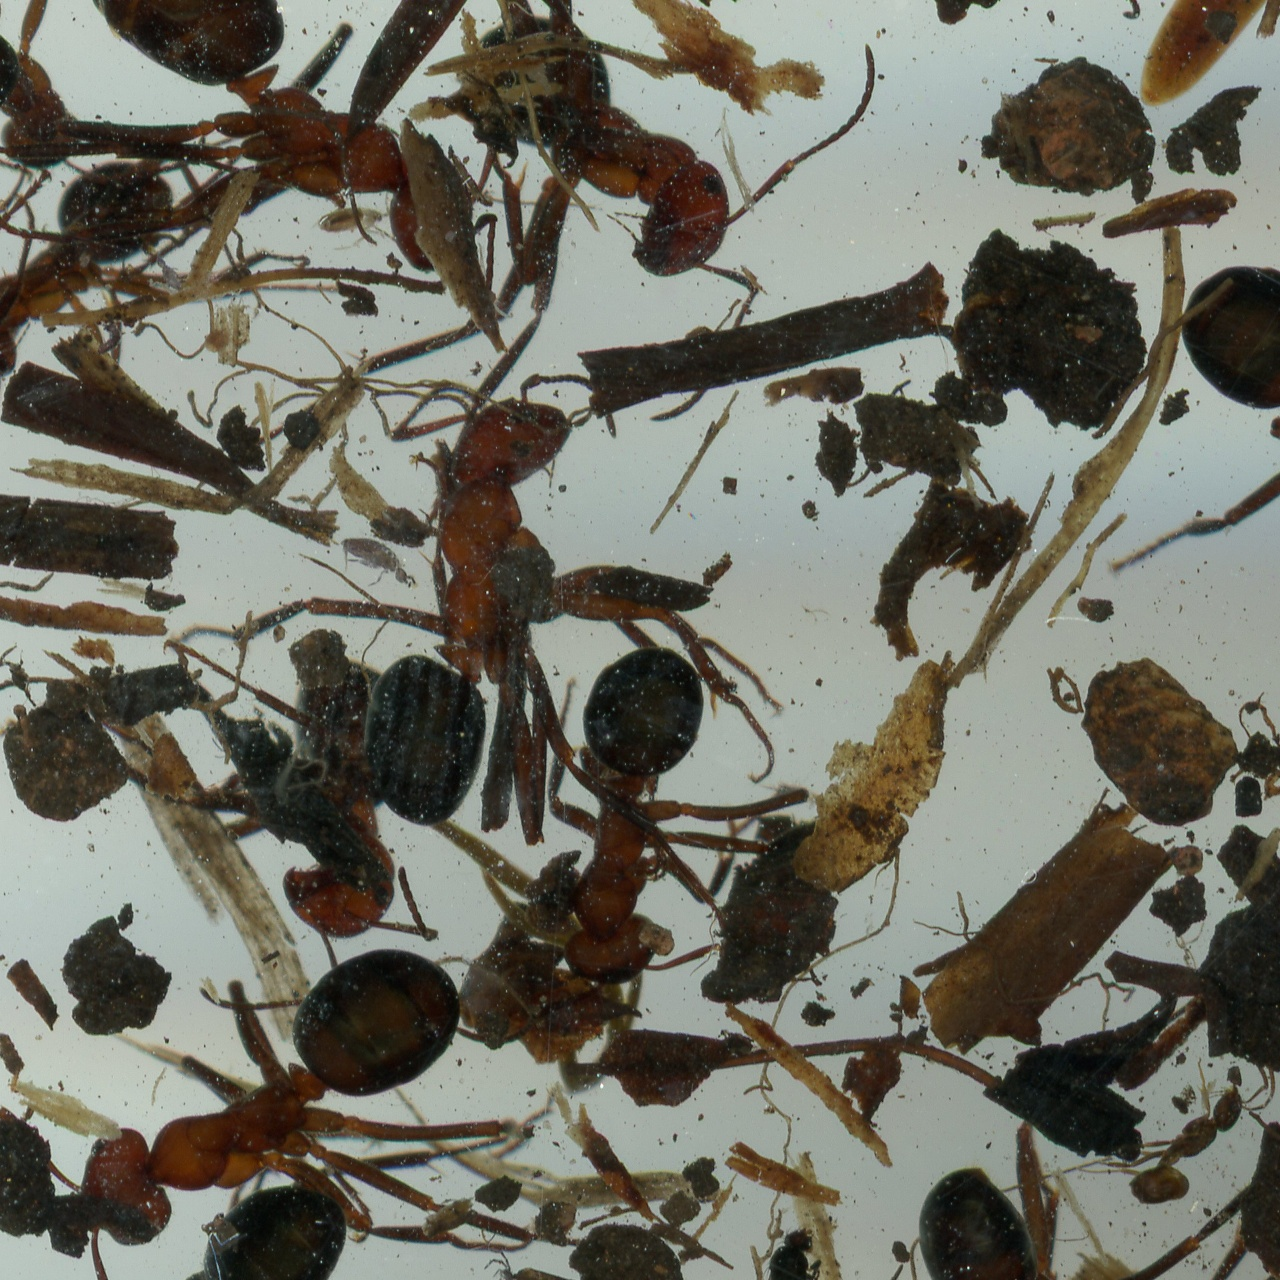arthropod: (157, 0, 883, 431), (0, 869, 561, 1280), (356, 360, 790, 827), (998, 152, 1280, 792), (128, 637, 494, 1029), (64, 0, 495, 303), (465, 621, 815, 992), (4, 1133, 482, 1280), (1056, 1011, 1280, 1255), (0, 156, 186, 432), (907, 1155, 1280, 1280), (863, 0, 1280, 60), (0, 64, 55, 473), (0, 0, 91, 234), (309, 189, 398, 253), (336, 530, 423, 593), (756, 1216, 833, 1280), (147, 244, 191, 294), (457, 1246, 520, 1280), (94, 309, 127, 358)
